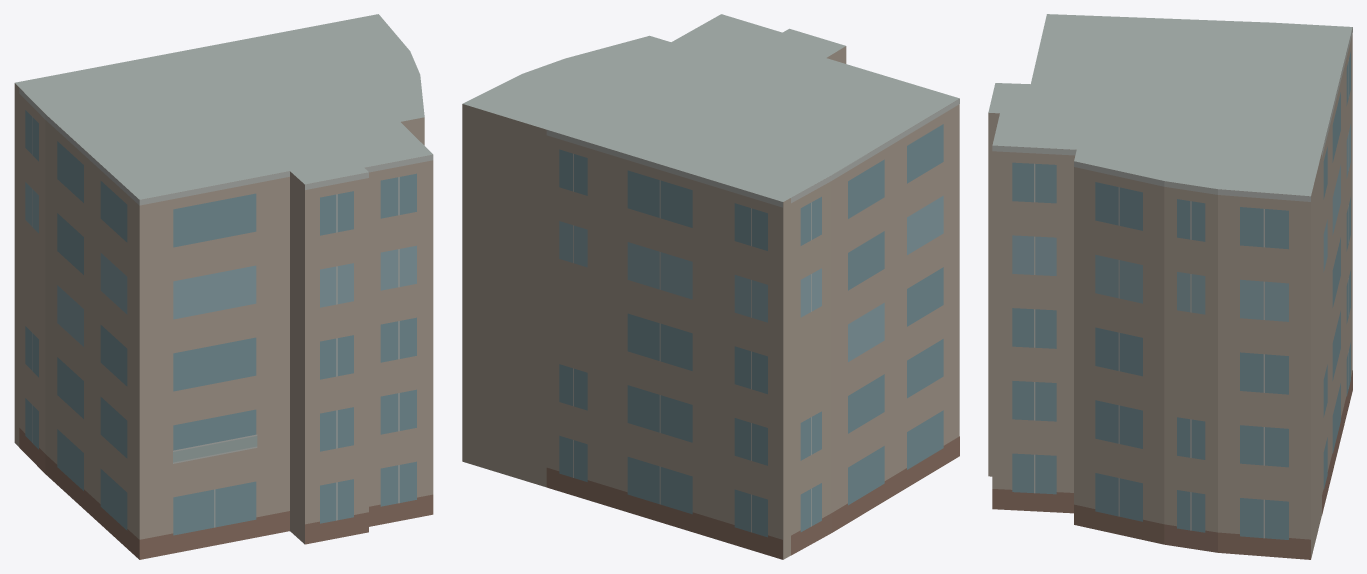
File: survey-upis-32752791.glb
The picture shows the model from 3 angles, left to right: view 1: azimuth 30°, elevation 25°; view 2: azimuth 150°, elevation 25°; view 3: azimuth 270°, elevation 25°; orthographic projection.
Visible parts, largest first — view 1: survey-upis-32752791.tmp; view 2: survey-upis-32752791.tmp; view 3: survey-upis-32752791.tmp.
Part boxes in pixels (x1,y1,x2,y2): survey-upis-32752791.tmp: (14,14,433,559); survey-upis-32752791.tmp: (462,14,959,559); survey-upis-32752791.tmp: (988,14,1352,559).
Bounding box in the file's own units: 16.57 × 15.4 × 14.
